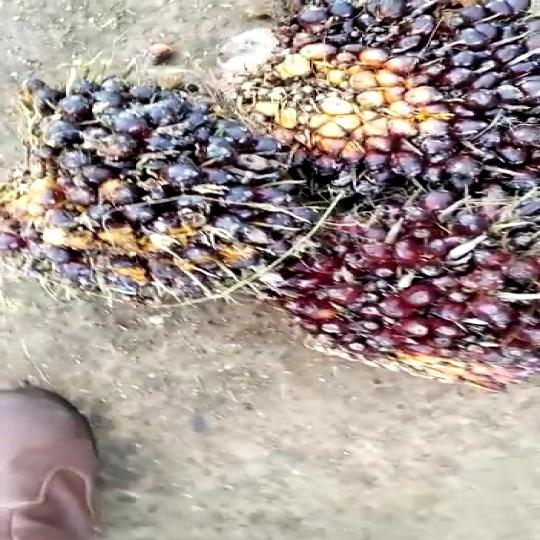kurang masak: (0, 66, 316, 298), (213, 0, 540, 191), (272, 189, 540, 407)
